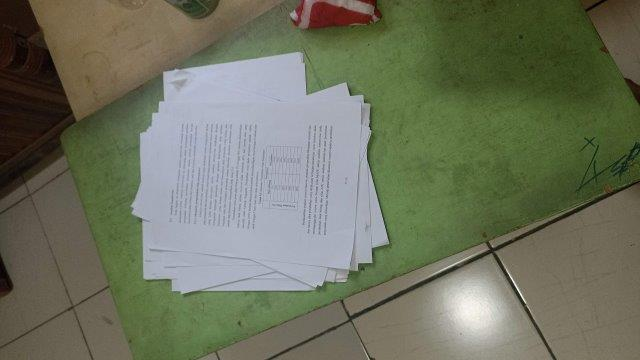kertas: (137, 53, 393, 295)
